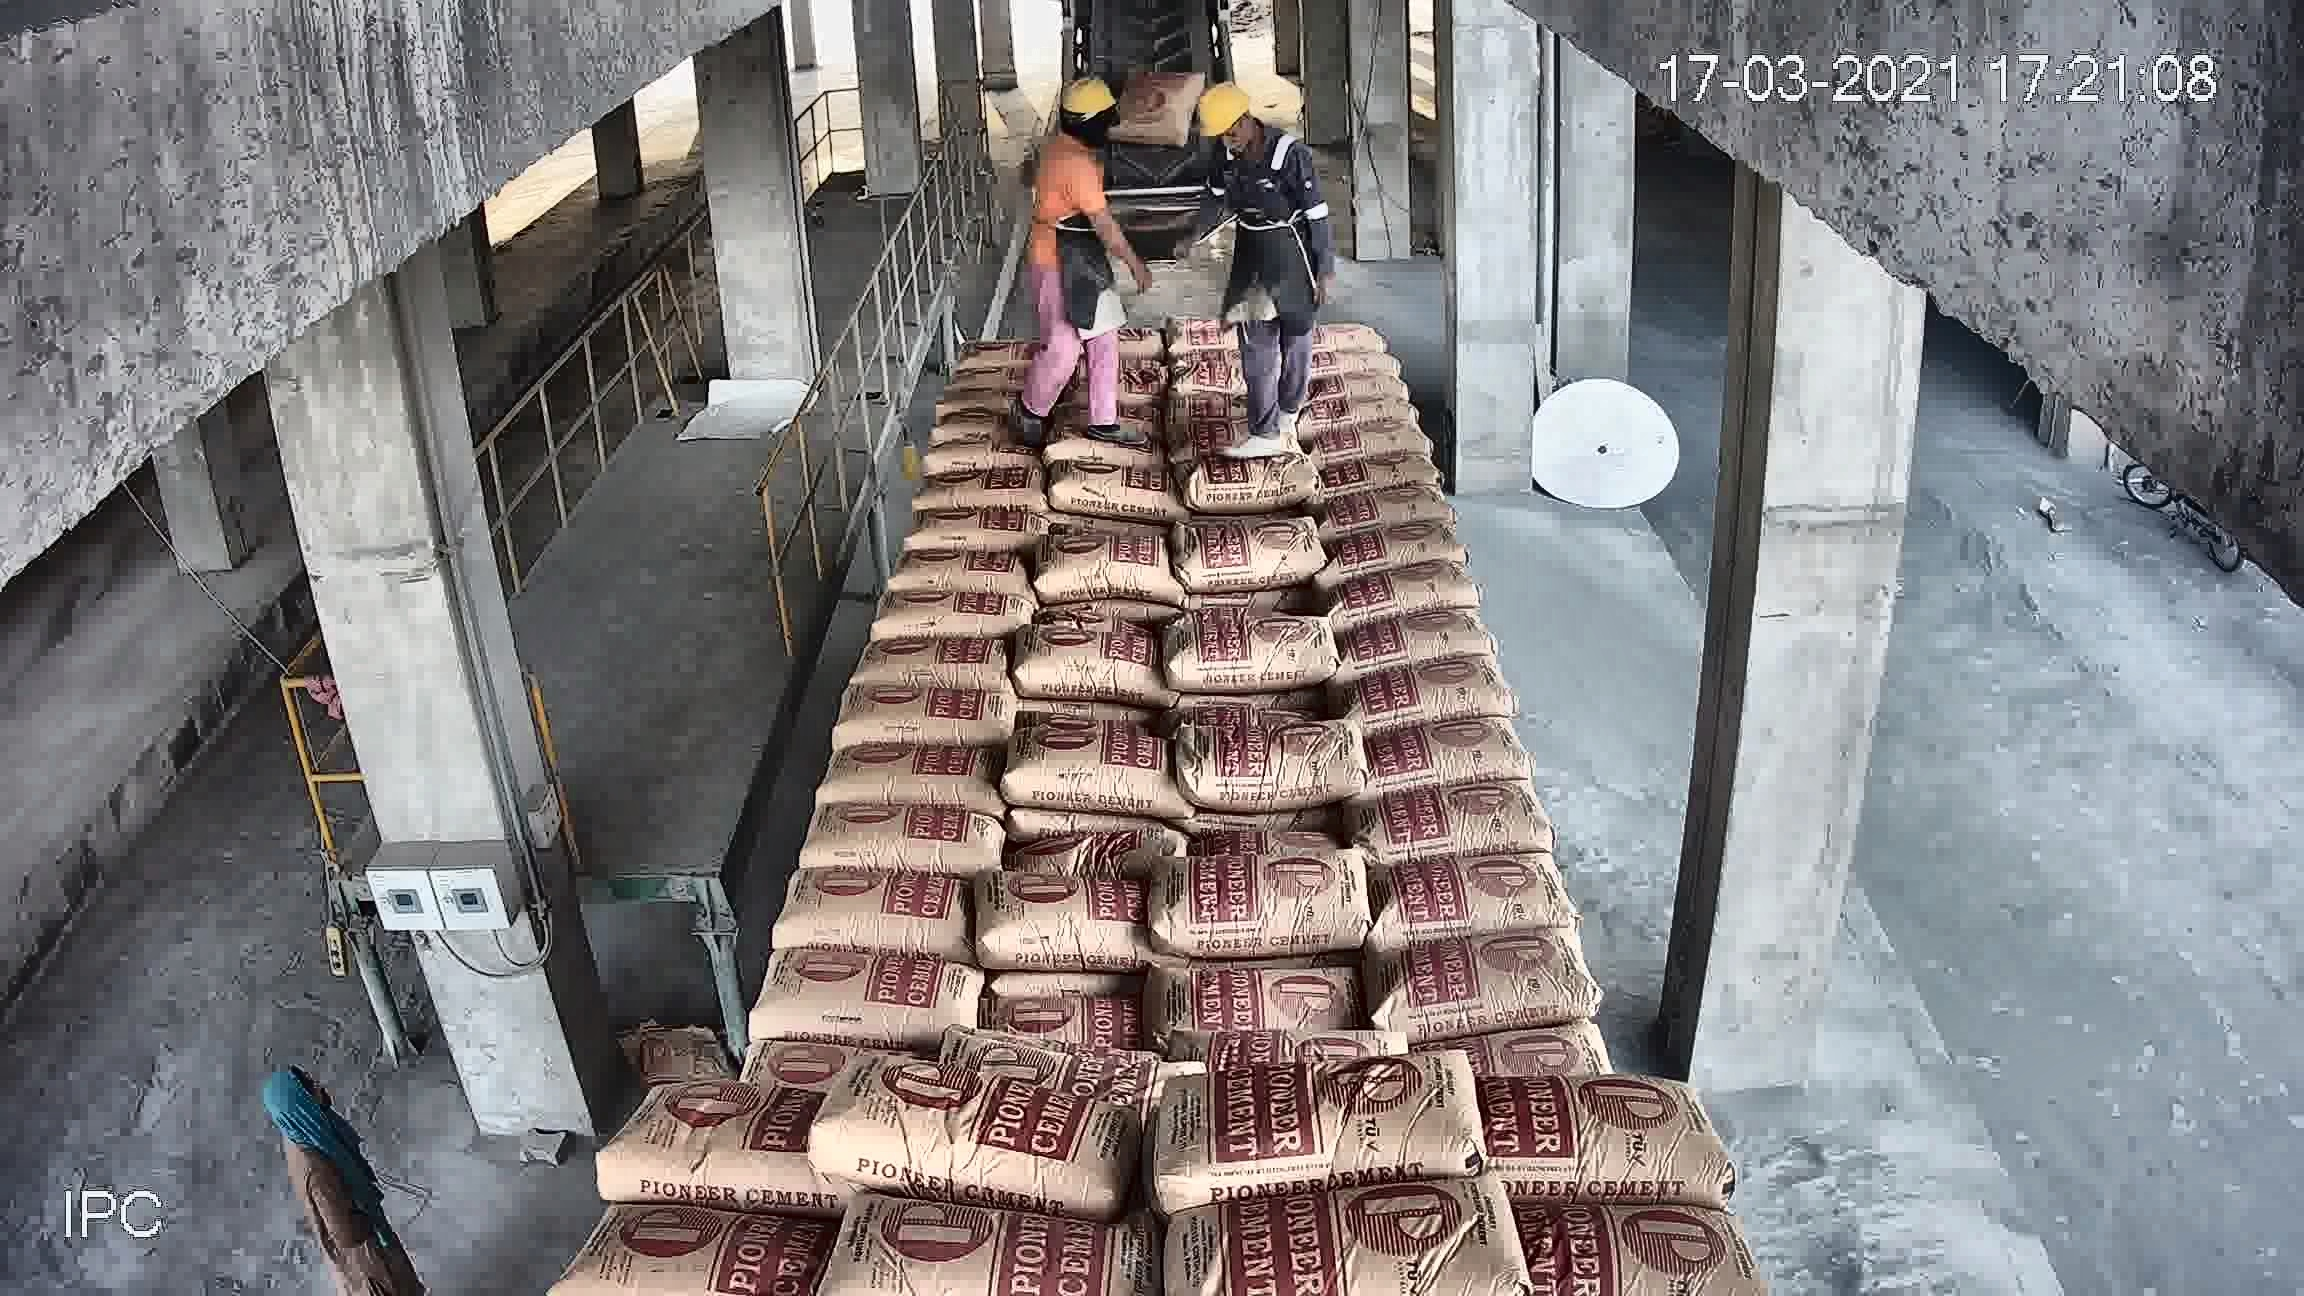bag: (1095, 282, 1231, 456), (1301, 589, 1522, 688), (1086, 11, 1196, 97)
bag_h: (1141, 1048, 1476, 1217), (1147, 1154, 1513, 1296), (805, 1067, 1138, 1196), (1143, 934, 1434, 1073), (1160, 832, 1431, 968), (1429, 951, 1688, 1086), (870, 940, 1158, 1060), (1473, 1065, 1714, 1207), (1522, 1177, 1809, 1296), (655, 956, 902, 1089), (1154, 714, 1394, 843), (831, 1192, 1117, 1294), (905, 734, 1143, 851), (560, 1201, 848, 1296), (1383, 756, 1603, 878), (612, 1074, 813, 1207), (892, 858, 1157, 954), (1423, 851, 1666, 954), (660, 864, 894, 968), (715, 767, 907, 885), (839, 669, 984, 745), (843, 585, 984, 649), (853, 630, 999, 684), (1166, 663, 1250, 736), (1163, 617, 1272, 668), (883, 543, 972, 598), (1188, 571, 1282, 623), (817, 734, 907, 786), (897, 513, 965, 551)
belt: (1000, 24, 1275, 530)
